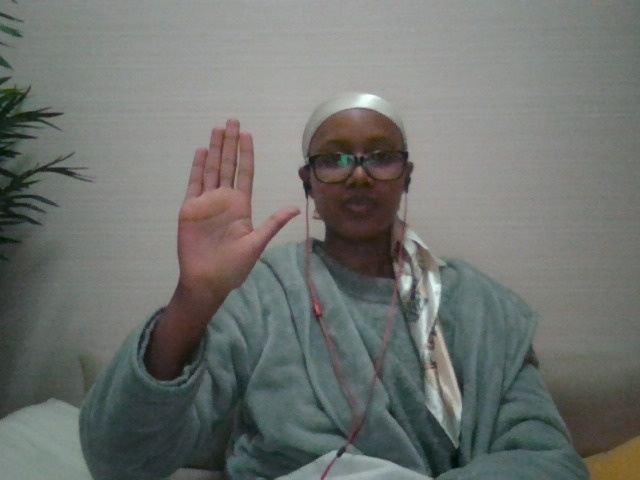highfive: (168, 113, 305, 310)
